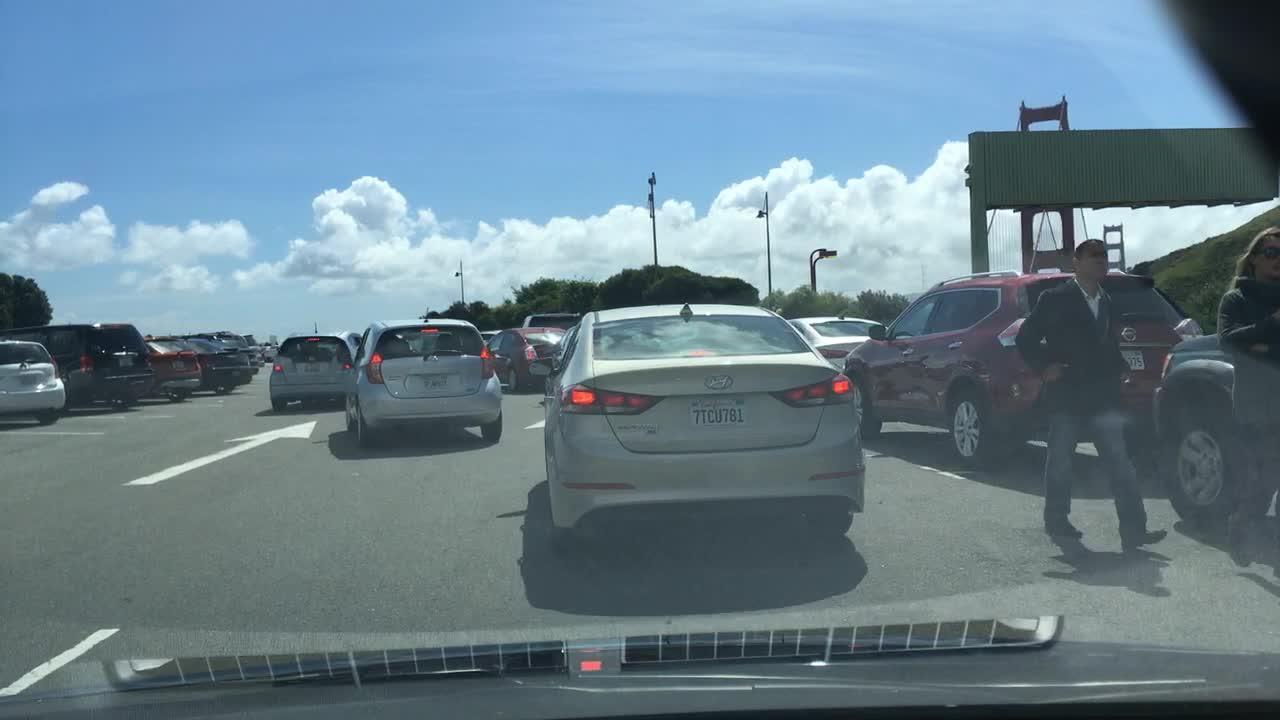Hyundai: (703, 368, 739, 396)
Nissan: (1119, 323, 1145, 346)
